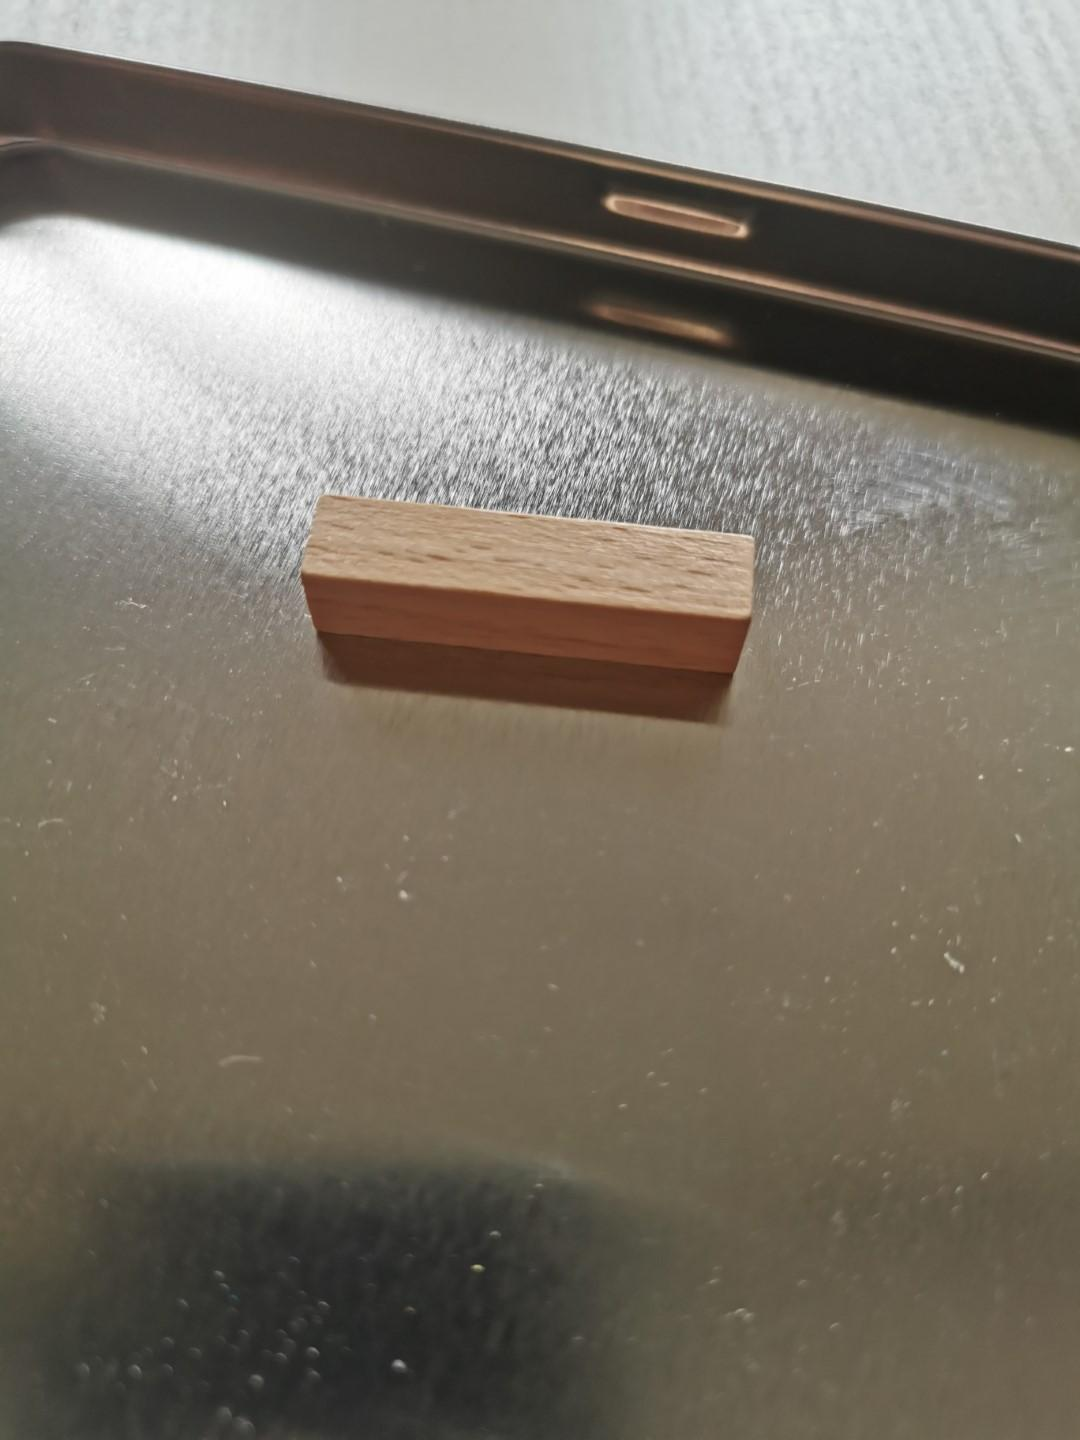jenga: (299, 494, 756, 675)
